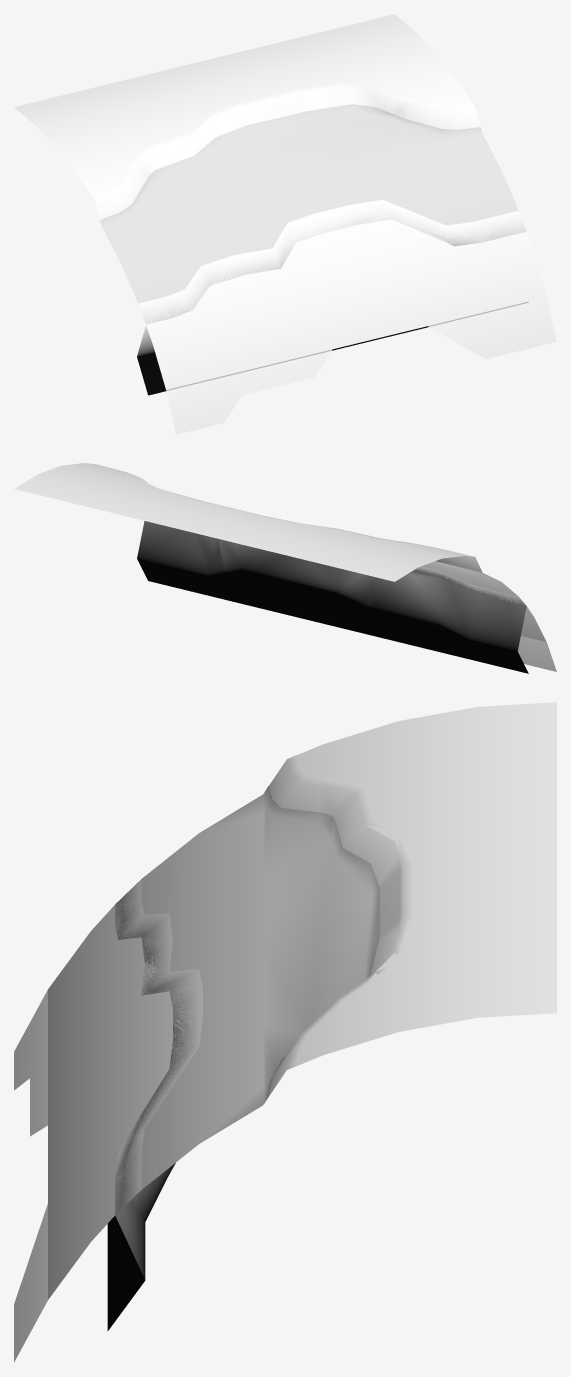
Rendered from grd_Is_1.dae.
3 views of the same model, one above another, from view 1: azimuth 30°, elevation 25°; view 2: azimuth 150°, elevation 25°; view 3: azimuth 270°, elevation 25° (orthographic). The views are drawn at different scales.
Parts seen in each view (by area): view 1: beach_0_0, ocean_4_0, grass_3_0, wave_5_0, beach_1_0, beach_cliff_2_0; view 2: beach_1_0, grass_3_0, beach_0_0, wave_5_0, beach_cliff_2_0, ocean_4_0; view 3: grass_3_0, beach_0_0, ocean_4_0, wave_5_0, beach_1_0, beach_cliff_2_0.
Part boxes in pixels (box(x1,y1,x2,y2)): beach_0_0: box(100, 104, 518, 303); ocean_4_0: box(146, 202, 546, 389); grass_3_0: box(14, 14, 472, 195); wave_5_0: box(146, 202, 556, 434); beach_1_0: box(137, 199, 528, 395); beach_cliff_2_0: box(92, 82, 480, 219); beach_1_0: box(137, 521, 528, 673); grass_3_0: box(14, 463, 472, 581); beach_0_0: box(421, 561, 518, 596); wave_5_0: box(517, 607, 556, 671); beach_cliff_2_0: box(94, 464, 482, 572); ocean_4_0: box(441, 572, 546, 641); grass_3_0: box(293, 702, 556, 1067); beach_0_0: box(141, 786, 379, 1189); ocean_4_0: box(48, 902, 202, 1299); wave_5_0: box(14, 907, 198, 1362); beach_1_0: box(107, 879, 202, 1330); beach_cliff_2_0: box(265, 755, 412, 1101).
Size of the model in its own units: 512 by 268 by 378.
Materials: 6 (1 with a texture image).
